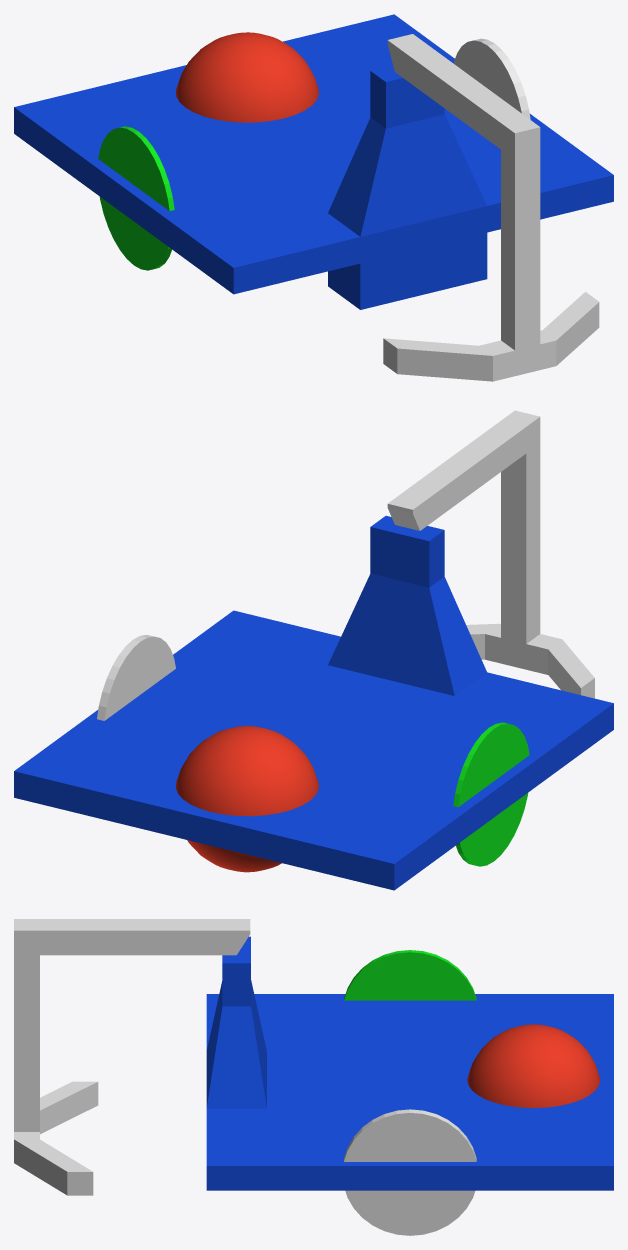
The model's file is robot_gamma.glb.
3 renders of one model, top to bottom at view 1: azimuth 30°, elevation 25°; view 2: azimuth 150°, elevation 25°; view 3: azimuth 270°, elevation 25°, orthographic. The views are drawn at different scales.
Visible parts, largest first — view 1: Frame, Arm, FrontWheel, LeftWheel, RightWheel; view 2: Frame, Arm, FrontWheel, LeftWheel, RightWheel; view 3: Frame, Arm, RightWheel, FrontWheel, LeftWheel.
Part boxes in pixels (x1,y1,x2,y2): Frame: [14, 14, 613, 309]; Arm: [383, 34, 599, 381]; FrontWheel: [176, 32, 318, 122]; LeftWheel: [98, 126, 174, 270]; RightWheel: [453, 38, 530, 119]; Frame: [14, 515, 613, 890]; Arm: [387, 410, 594, 698]; FrontWheel: [176, 726, 318, 872]; LeftWheel: [453, 722, 529, 866]; RightWheel: [97, 634, 175, 720]; Frame: [206, 936, 613, 1190]; Arm: [14, 919, 250, 1195]; RightWheel: [344, 1109, 476, 1235]; FrontWheel: [467, 1024, 600, 1107]; LeftWheel: [344, 950, 476, 1000].
Size of the model in its own units: 3 by 1.87 by 4.42.
